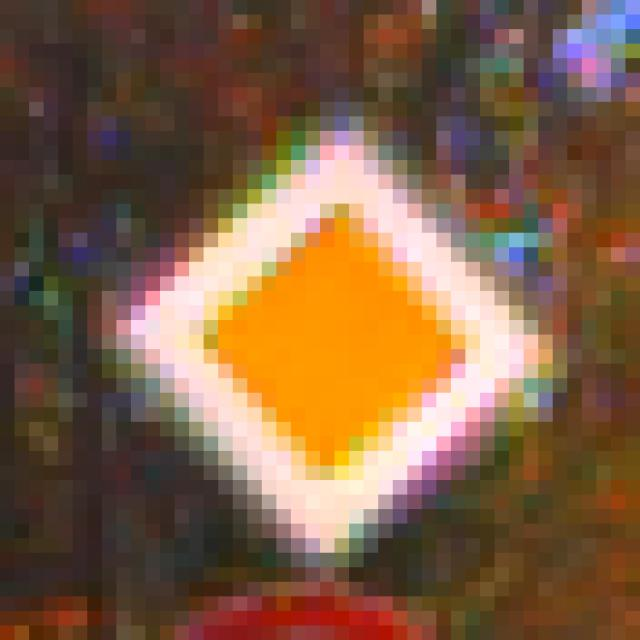Main Road: (88, 74, 554, 554)
